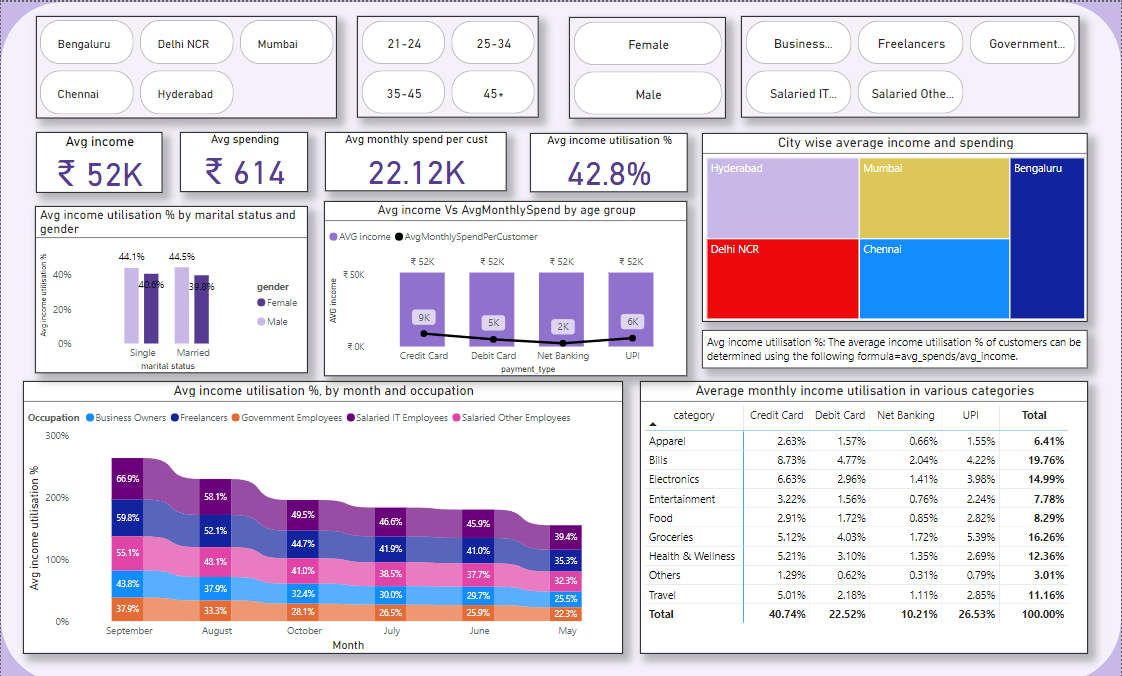

What the dashboard file says about the page in this screenshot:
{"tool":"powerbi","page":{"name":"INCOME UTILISATION","canvas":[1400,850],"ordinal":1},"visuals":[{"type":"shape","box":[0,0,1400,850],"z":0},{"type":"ribbonChart","title":"Avg income utilisation %,  by month and occupation","fields":{"Category":["fact_spends.month"],"Y":["dim_customers.Avg income utilisation %"],"Series":["dim_customers.occupation"]},"box":[27.8,473.3,750,341.1],"z":1000},{"type":"clusteredColumnChart","title":"Avg income utilisation % by marital status and gender","fields":{"Category":["dim_customers.marital status"],"Y":["dim_customers.Avg income utilisation %"],"Series":["dim_customers.gender"]},"box":[42.2,254.4,341.1,208.9],"z":2000},{"type":"pivotTable","title":"Average monthly income utilisation in various categories","fields":{"Values":["dim_customers.Avg income utilisation %"],"Columns":["fact_spends.payment_type"],"Rows":["fact_spends.category"]},"box":[798.9,473.3,560,341.1],"z":3000},{"type":"treemap","title":"City wise average income and spending","fields":{"Group":["dim_customers.city"],"Values":["dim_customers.AVG income"]},"box":[876.7,163.3,482.2,235.6],"z":4000},{"type":"textbox","box":[876.7,410,482.2,47.8],"z":5000},{"type":"advancedSlicerVisual","fields":{"Values":["dim_customers.age_group"]},"box":[444.4,17.8,226.7,126.7],"z":6000},{"type":"advancedSlicerVisual","fields":{"Values":["dim_customers.city"]},"box":[43.3,17.8,375.6,127.8],"z":7000},{"type":"advancedSlicerVisual","fields":{"Values":["dim_customers.gender"]},"box":[710,18.9,195.6,126.7],"z":8000},{"type":"advancedSlicerVisual","fields":{"Values":["dim_customers.occupation"]},"box":[924.4,17.8,423.3,126.7],"z":9000},{"type":"card","title":"Avg monthly spend per cust","fields":{"Values":["fact_spends.AvgMonthlySpendPerCustomer"]},"box":[404.4,162.2,226.7,74.4],"z":10000},{"type":"card","title":"Avg spending","fields":{"Values":["dim_customers.Avg spends"]},"box":[223.9,162.2,160.2,74.6],"z":11000},{"type":"card","title":"Avg income utilisation %","fields":{"Values":["dim_customers.Avg income utilisation %"]},"box":[661.1,163.3,196.7,74.4],"z":12000},{"type":"card","title":"Avg income","fields":{"Values":["dim_customers.AVG income"]},"box":[43.3,162.2,157.8,75.6],"z":14000},{"type":"lineClusteredColumnComboChart","title":"Avg income Vs AvgMonthlySpend by age group","fields":{"Y":["dim_customers.AVG income"],"Y2":["fact_spends.AvgMonthlySpendPerCustomer"],"Category":["fact_spends.payment_type"]},"box":[403.3,248.9,454.4,218.9],"z":14001}]}

Visuals, with their boxes in screenshot pixels (x1, y1, x2, y2), scaled from the page's 1400x850 canvas onto the 1122x676 screenshot:
shape: x1=0 y1=0 x2=1121 y2=675
"Avg income utilisation %,  by month and occupation" ribbonChart: x1=22 y1=376 x2=623 y2=648
"Avg income utilisation % by marital status and gender" clusteredColumnChart: x1=34 y1=202 x2=307 y2=368
"Average monthly income utilisation in various categories" pivotTable: x1=640 y1=376 x2=1089 y2=648
"City wise average income and spending" treemap: x1=703 y1=130 x2=1089 y2=317
textbox: x1=703 y1=326 x2=1089 y2=364
advancedSlicerVisual - dim_customers.age_group: x1=356 y1=14 x2=538 y2=115
advancedSlicerVisual - dim_customers.city: x1=35 y1=14 x2=336 y2=116
advancedSlicerVisual - dim_customers.gender: x1=569 y1=15 x2=726 y2=116
advancedSlicerVisual - dim_customers.occupation: x1=741 y1=14 x2=1080 y2=115
"Avg monthly spend per cust" card: x1=324 y1=129 x2=506 y2=188
"Avg spending" card: x1=179 y1=129 x2=308 y2=188
"Avg income utilisation %" card: x1=530 y1=130 x2=687 y2=189
"Avg income" card: x1=35 y1=129 x2=161 y2=189
"Avg income Vs AvgMonthlySpend by age group" lineClusteredColumnComboChart: x1=323 y1=198 x2=687 y2=372
